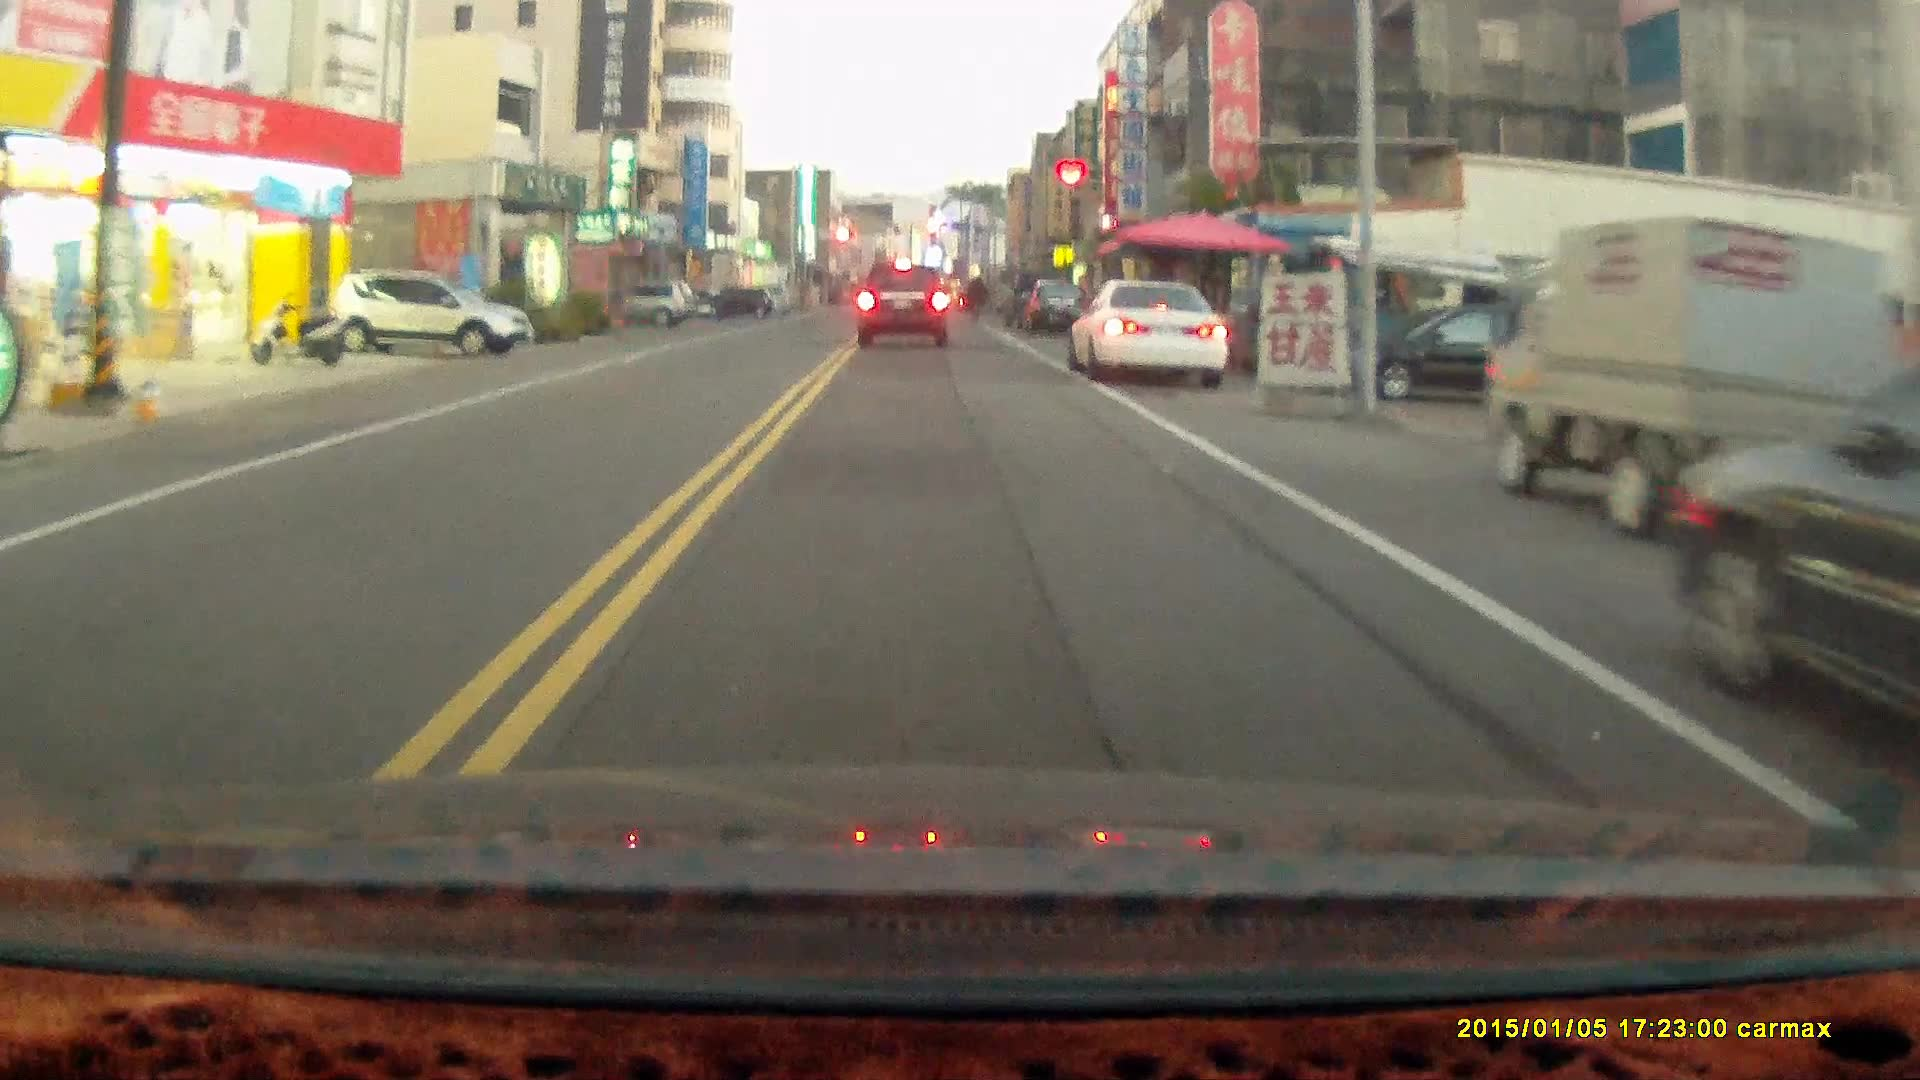rider: (965, 275, 987, 323)
vehicle: (1484, 213, 1900, 540), (1664, 339, 1920, 772), (1328, 294, 1619, 406), (320, 273, 529, 358), (1073, 283, 1232, 391), (853, 266, 953, 351)
